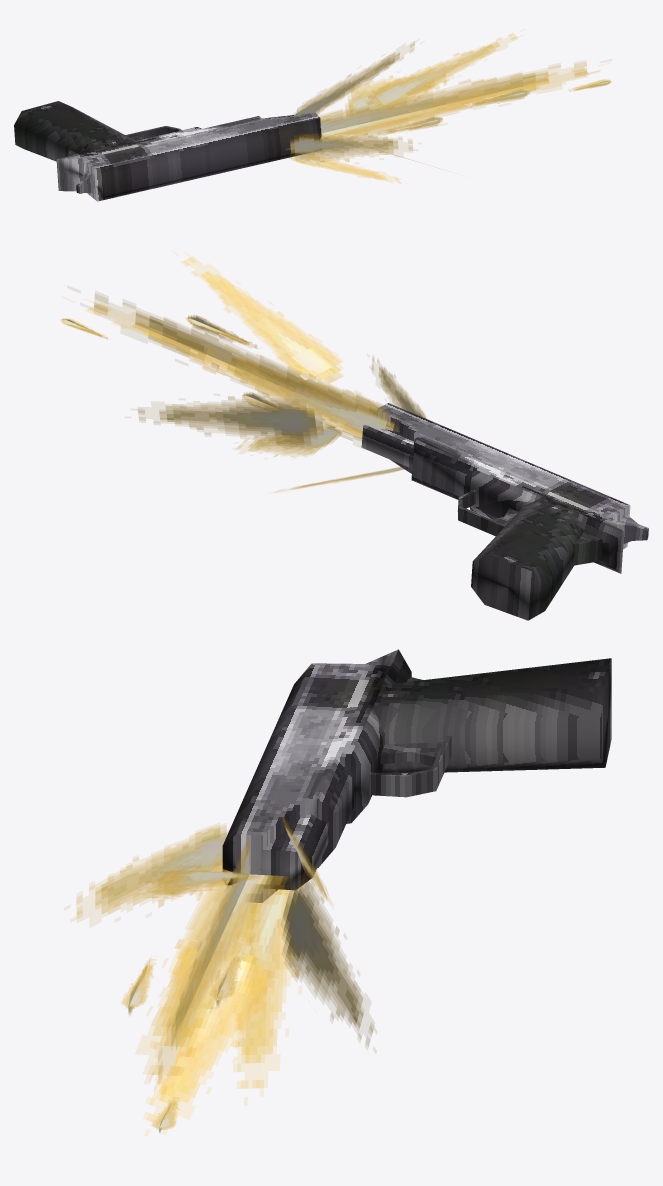
The model's file is pistol.glb.
3 views of the same model, one above another, from view 1: azimuth 30°, elevation 25°; view 2: azimuth 150°, elevation 25°; view 3: azimuth 270°, elevation 25° (orthographic). The views are drawn at different scales.
Visible parts, largest first — view 1: colt45, gunflash; view 2: colt45, gunflash; view 3: colt45, gunflash.
Part boxes in pixels (<box>): colt45: <box>14,101,321,201</box>; gunflash: <box>286,33,611,183</box>; colt45: <box>361,403,648,620</box>; gunflash: <box>61,257,426,492</box>; colt45: <box>222,649,611,902</box>; gunflash: <box>76,817,374,1132</box>.
Size of the model in its own units: 0.565 by 0.164 by 0.263.
Materials: 2 (2 with a texture image).
